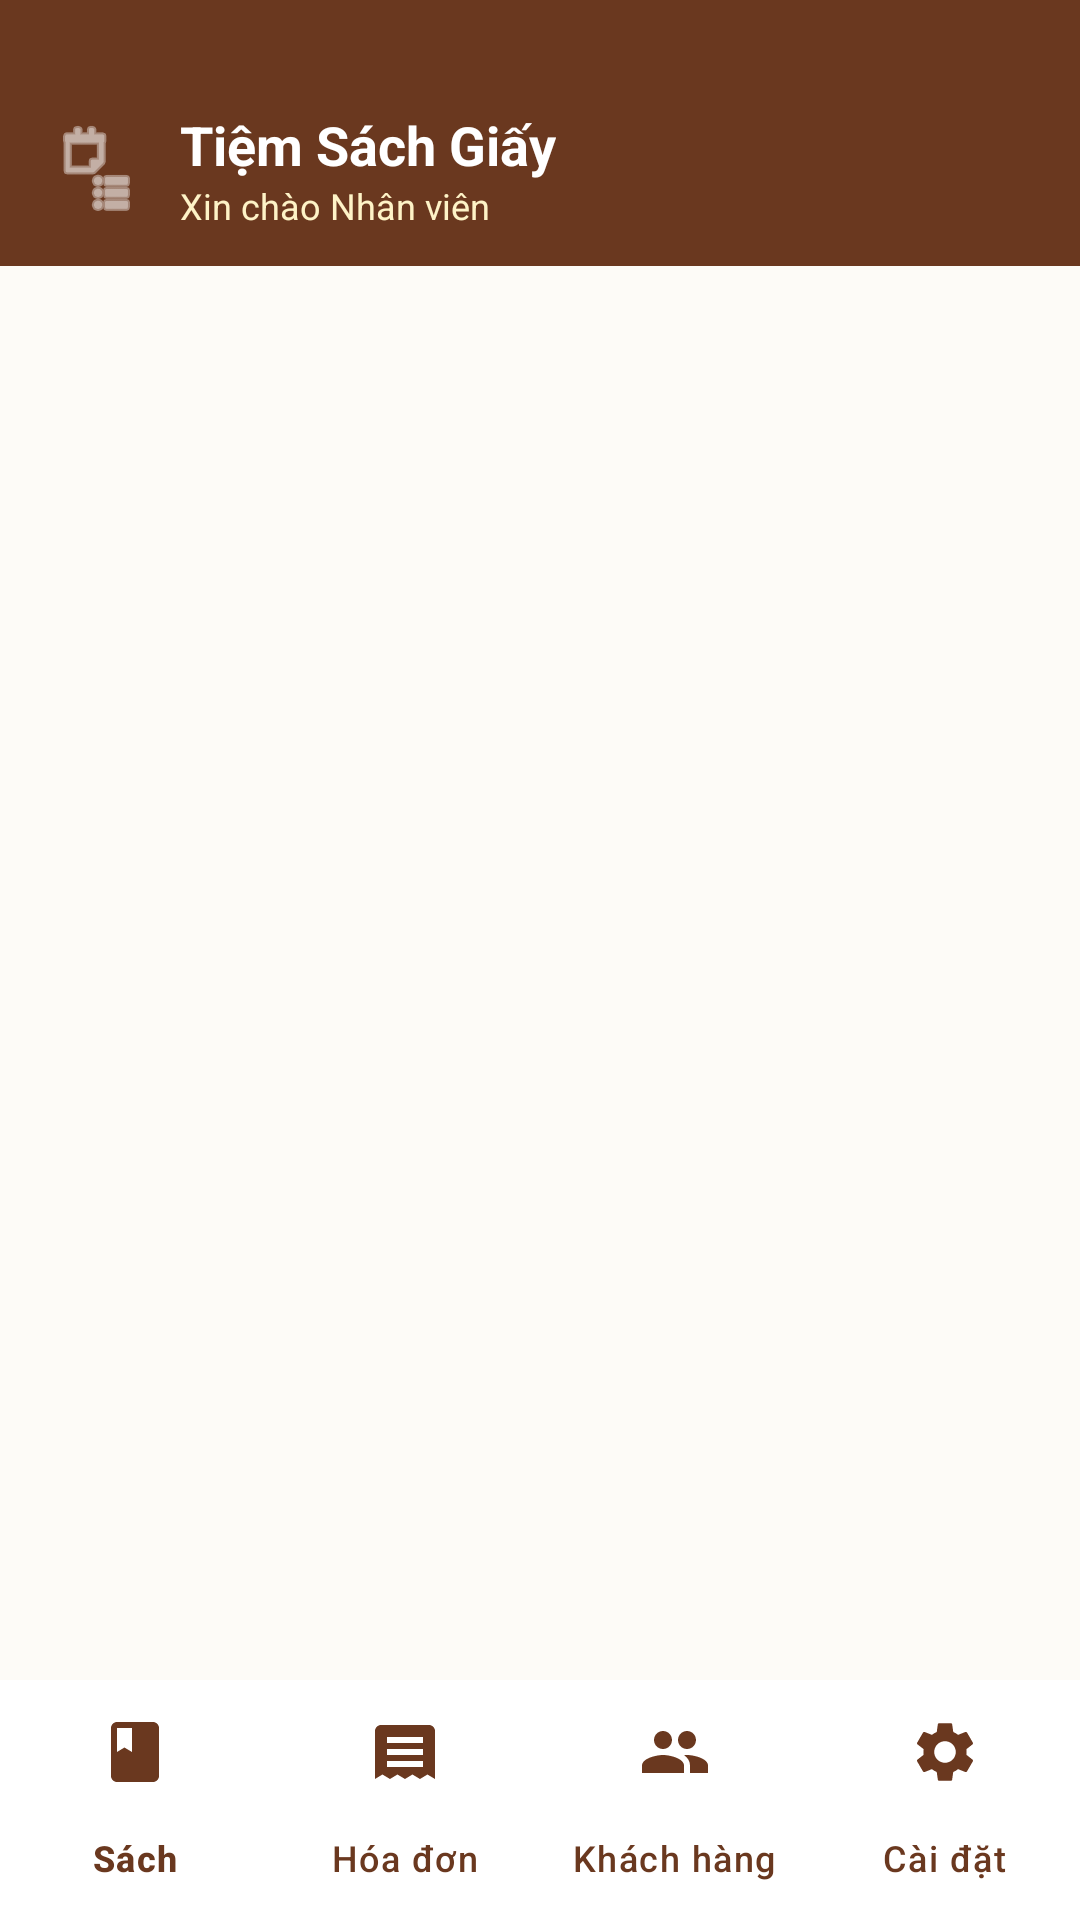

Icons on this 1080 × 1920 Android screen, each with the point to tap as (x=x, y=y):
agenda: (x=96, y=168)
